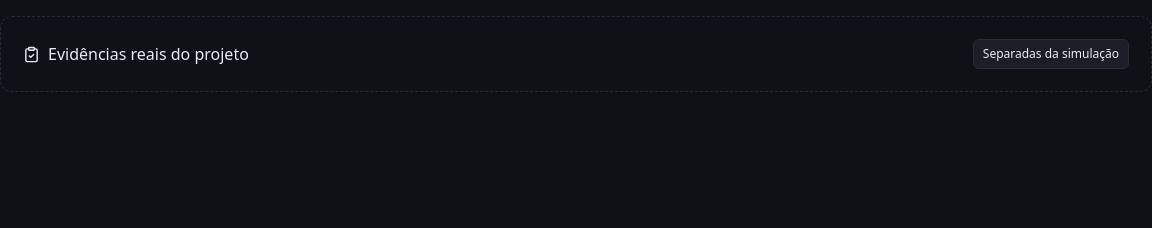
Test: reports unavailable API health for {"status":503,"body":{"status":"DOWN"}} without claiming CI success
The width and height of the screenshot is (1152, 228).
Click the heading "Evidências reais do projeto" at x=148, y=54, box [23,39,1129,69]
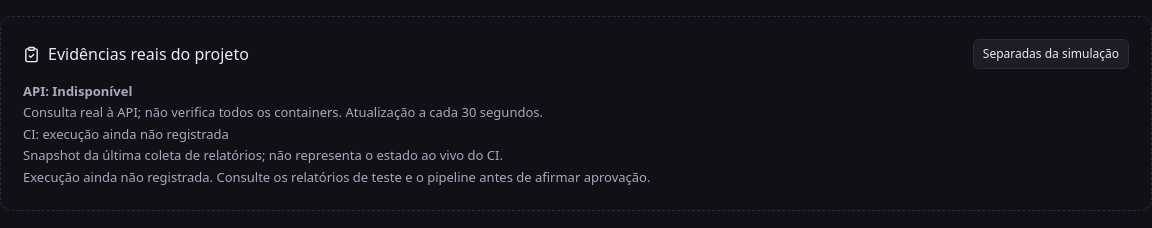
Now the text "API: Indisponível" is shown, box [23,82,132,100]
Now the text "CI: execução ainda não registrada" is shown, box [23,125,229,143]
